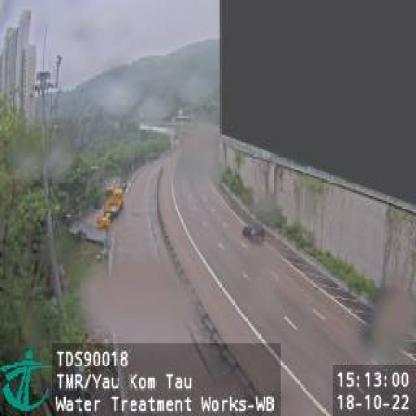Car: (243, 224, 266, 246)
